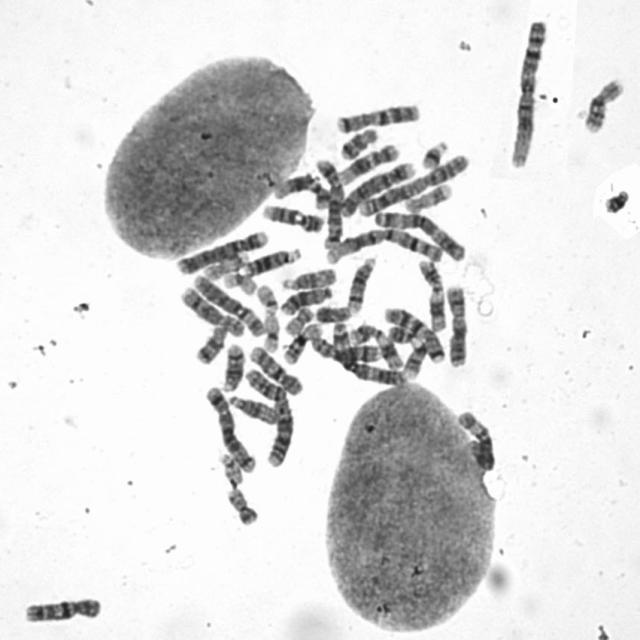A1: (503, 12, 551, 171), (319, 221, 447, 265)
A2: (349, 146, 471, 217), (239, 362, 296, 468)
A3: (370, 204, 470, 263), (329, 316, 408, 387)
B4: (171, 224, 270, 276), (335, 156, 416, 217)
B5: (199, 379, 257, 475), (310, 152, 346, 251)
C10: (245, 339, 306, 397), (18, 590, 104, 624)
C11: (343, 317, 406, 373), (412, 253, 448, 333)
C12: (332, 137, 402, 186), (268, 168, 332, 210)
C6: (188, 268, 268, 338), (453, 404, 498, 472)
C7: (378, 300, 447, 364), (331, 97, 423, 134)
C8: (175, 280, 248, 338), (302, 323, 383, 365)
C9: (384, 319, 429, 379), (258, 198, 326, 234)
D13: (238, 241, 302, 277), (274, 280, 334, 316)
D14: (342, 250, 378, 314), (216, 337, 246, 393)
D15: (223, 388, 282, 426), (277, 261, 339, 291)
E16: (578, 72, 626, 134), (277, 316, 324, 365)
E17: (401, 177, 455, 213), (198, 247, 249, 280)
E18: (190, 319, 230, 365), (334, 120, 380, 160)
F19: (219, 266, 258, 296), (258, 307, 281, 353)
F20: (221, 482, 260, 526), (279, 300, 316, 336)
G21: (416, 134, 450, 171), (599, 183, 632, 214)
G22: (213, 447, 245, 487), (251, 279, 281, 313)
X: (441, 280, 471, 368)
Y: (311, 298, 354, 324)
